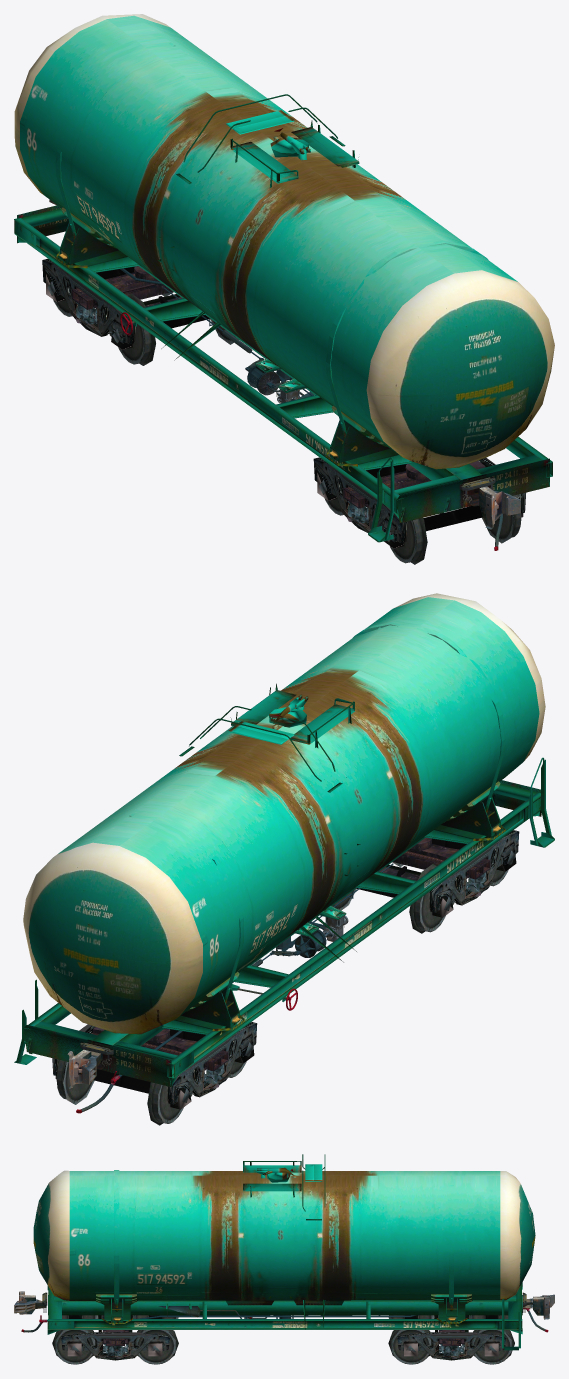
The model's file is tankcar.glb.
The picture shows the model from 3 angles, top to bottom: view 1: azimuth 30°, elevation 25°; view 2: azimuth 150°, elevation 25°; view 3: azimuth 270°, elevation 25°; orthographic projection. The views are drawn at different scales.
Parts seen in each view (by area): view 1: Chassis, Part1, bogie_front.001, bogie_front, Part2; view 2: Chassis, Part1, bogie_front, bogie_front.001, Part2; view 3: Chassis, Part1, bogie_front.001, bogie_front, Part2.
Boxes of the visible parts, box(x1,y1,x2,y2) form: Chassis: box(14, 14, 554, 523); Part1: box(55, 42, 502, 550); bogie_front.001: box(313, 457, 525, 564); bogie_front: box(42, 258, 238, 365); Part2: box(49, 199, 520, 529); Chassis: box(14, 593, 545, 1087); Part1: box(16, 621, 554, 1113); bogie_front: box(52, 1022, 257, 1125); bogie_front.001: box(332, 830, 519, 933); Part2: box(67, 909, 348, 1088); Chassis: box(33, 1164, 535, 1350); Part1: box(21, 1154, 548, 1348); bogie_front.001: box(52, 1315, 178, 1364); bogie_front: box(388, 1315, 514, 1364); Part2: box(14, 1291, 554, 1319).
Size of the model in its own units: 3.17 by 4.7 by 12.41.
6 materials, 6 textured.
